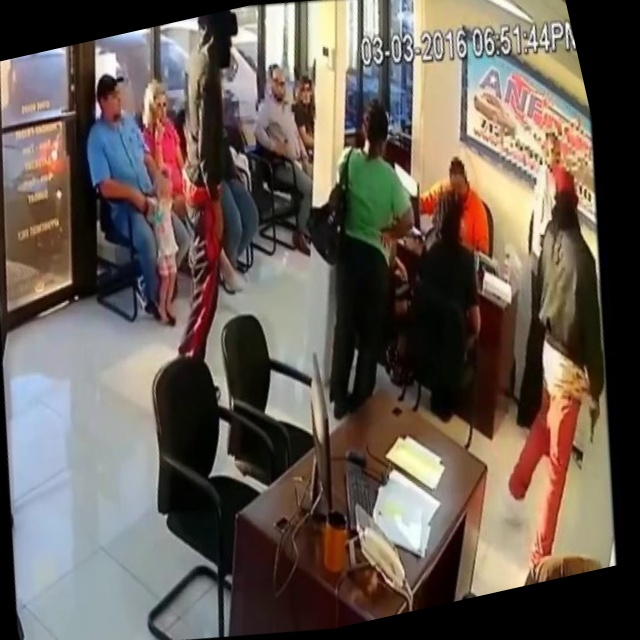gun: (576, 398, 608, 455)
